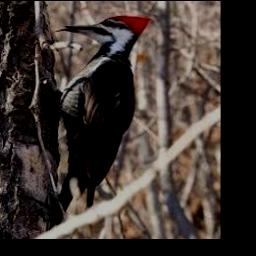Woodpecker: (53, 16, 150, 229)
